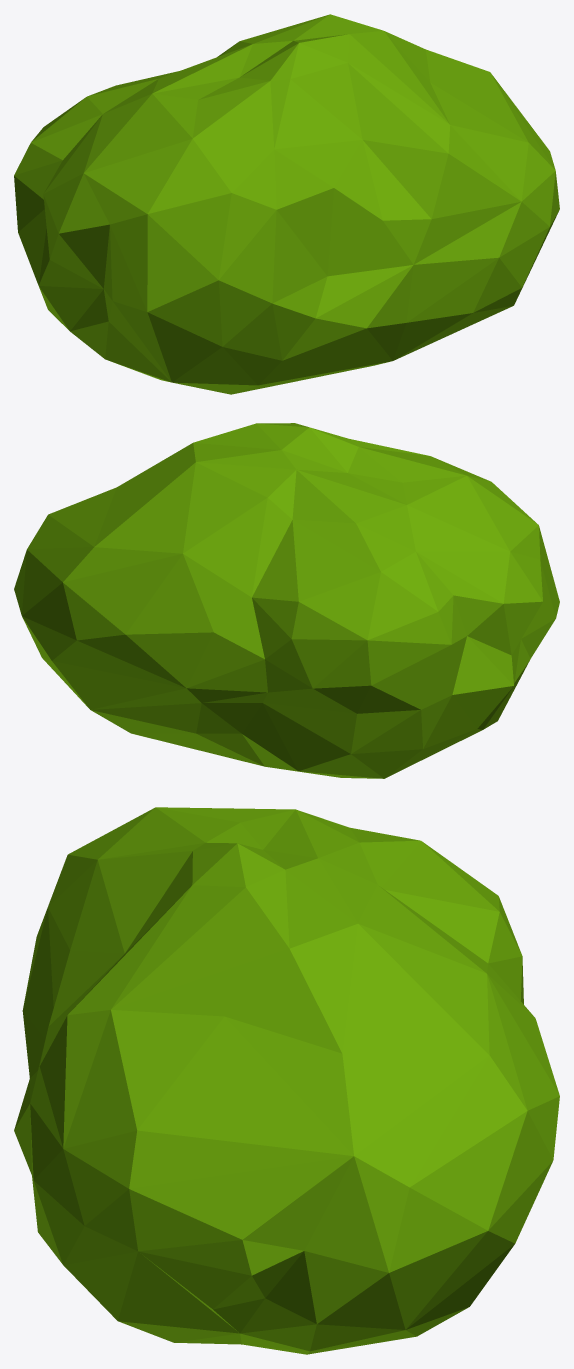
Rendered from Bush_09.fbx.
The picture shows the model from 3 angles, top to bottom: view 1: azimuth 30°, elevation 25°; view 2: azimuth 150°, elevation 25°; view 3: azimuth 270°, elevation 25°; orthographic projection. The views are drawn at different scales.
Visible parts, largest first — view 1: Bush_09; view 2: Bush_09; view 3: Bush_09.
Boxes of the visible parts, x1,y1,x2,y2 form: Bush_09: [14, 14, 559, 394]; Bush_09: [14, 423, 559, 778]; Bush_09: [14, 807, 559, 1354].
Bounding box in the file's own units: 204 × 125 × 143.
